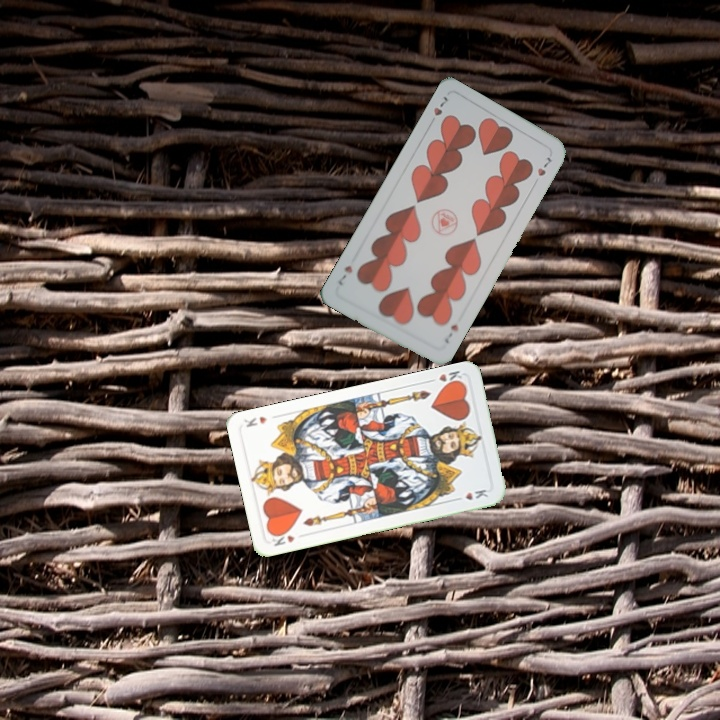H7: (425, 92, 450, 128), (440, 320, 461, 346)
HK: (424, 366, 465, 389), (266, 527, 297, 549)
